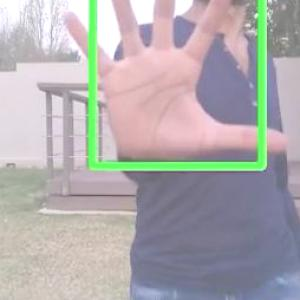follow_hand: (58, 0, 290, 168)
